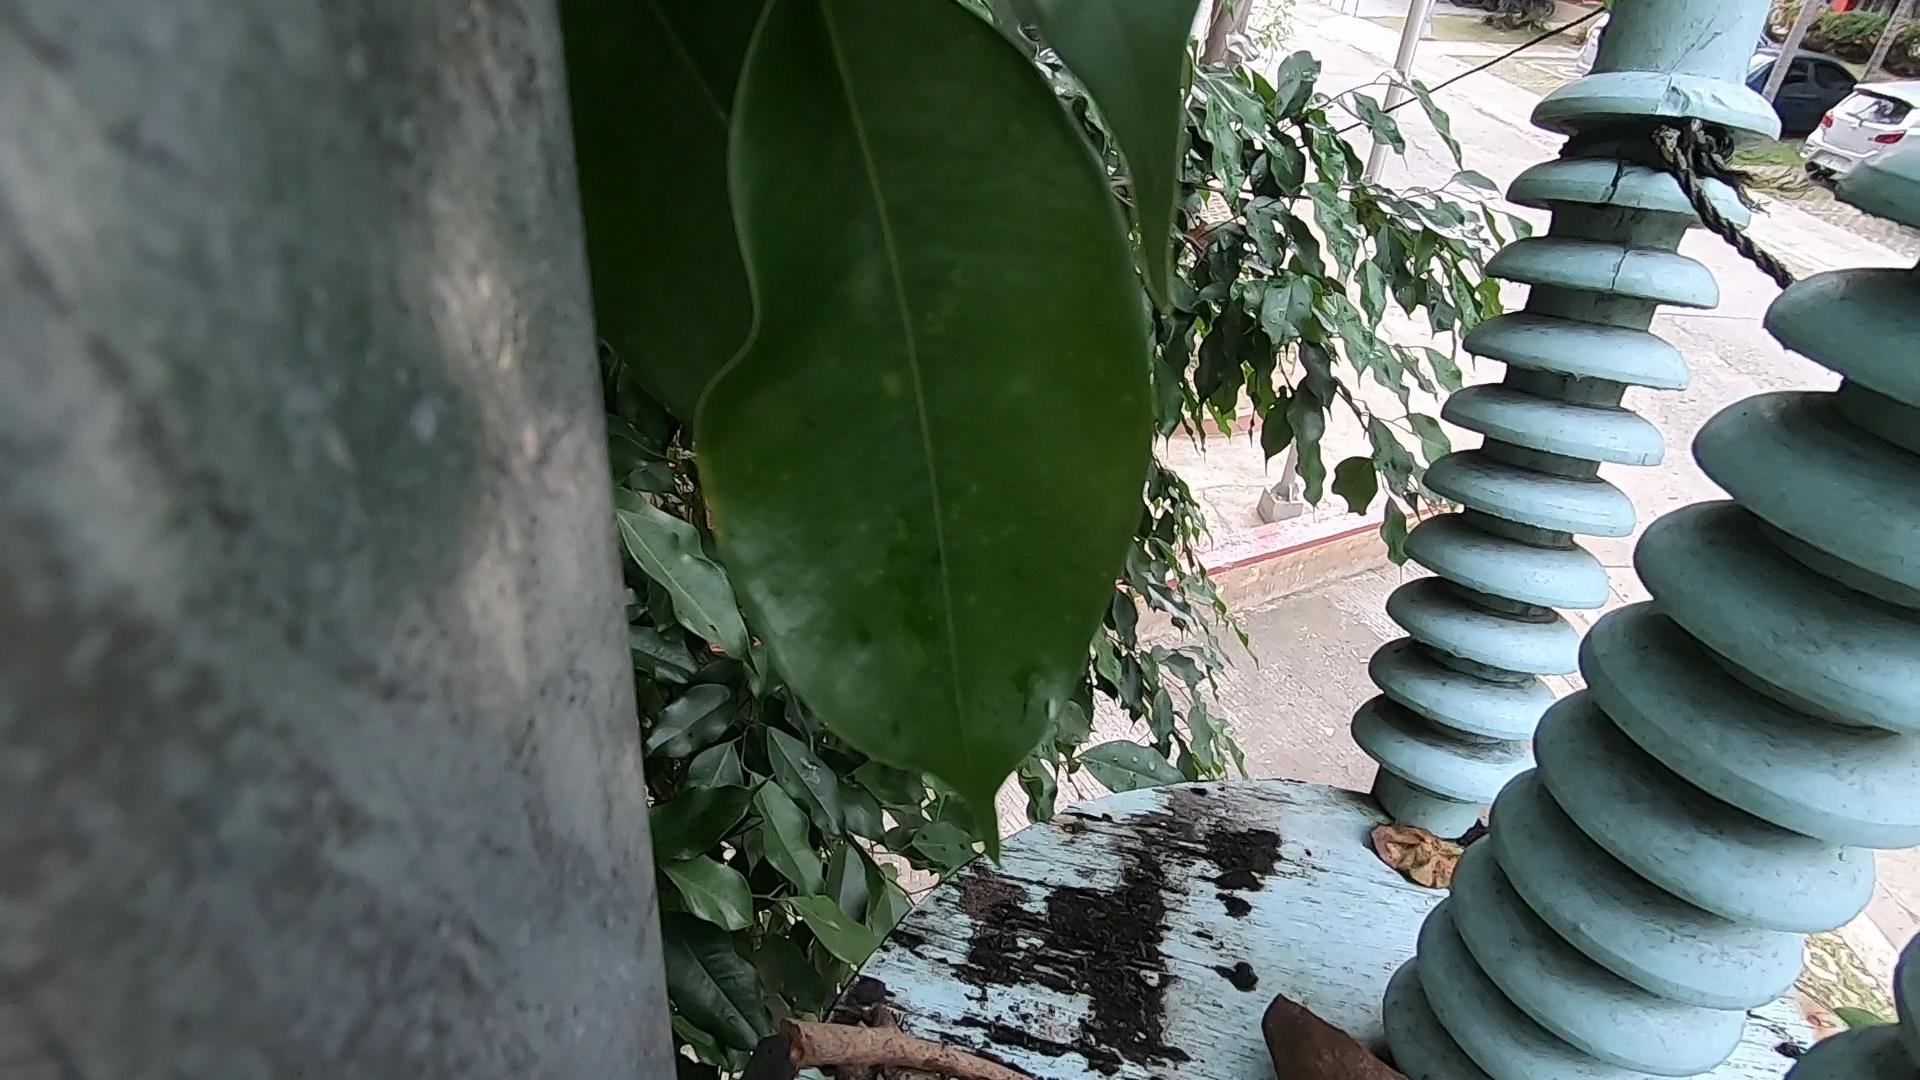branch with leaves: (843, 986, 928, 1080)
leaf: (1356, 807, 1484, 890)
mahogany fruit: (1222, 965, 1411, 1080)
tree branch: (774, 1001, 1069, 1080)
